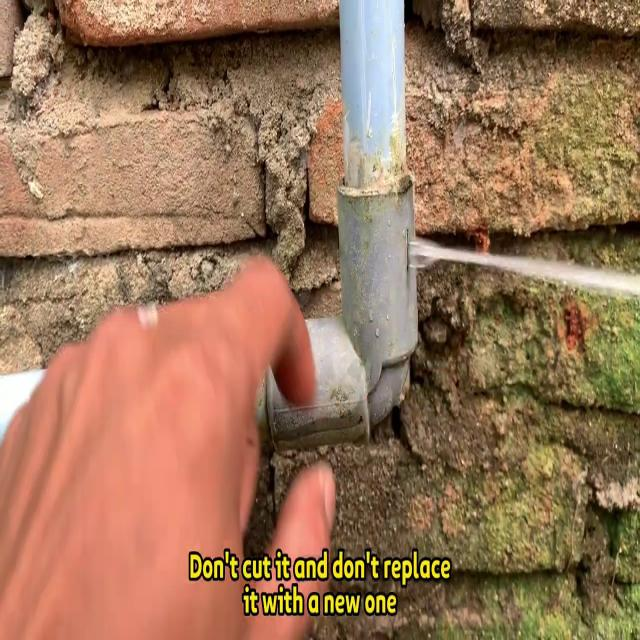leak: (405, 231, 640, 302)
